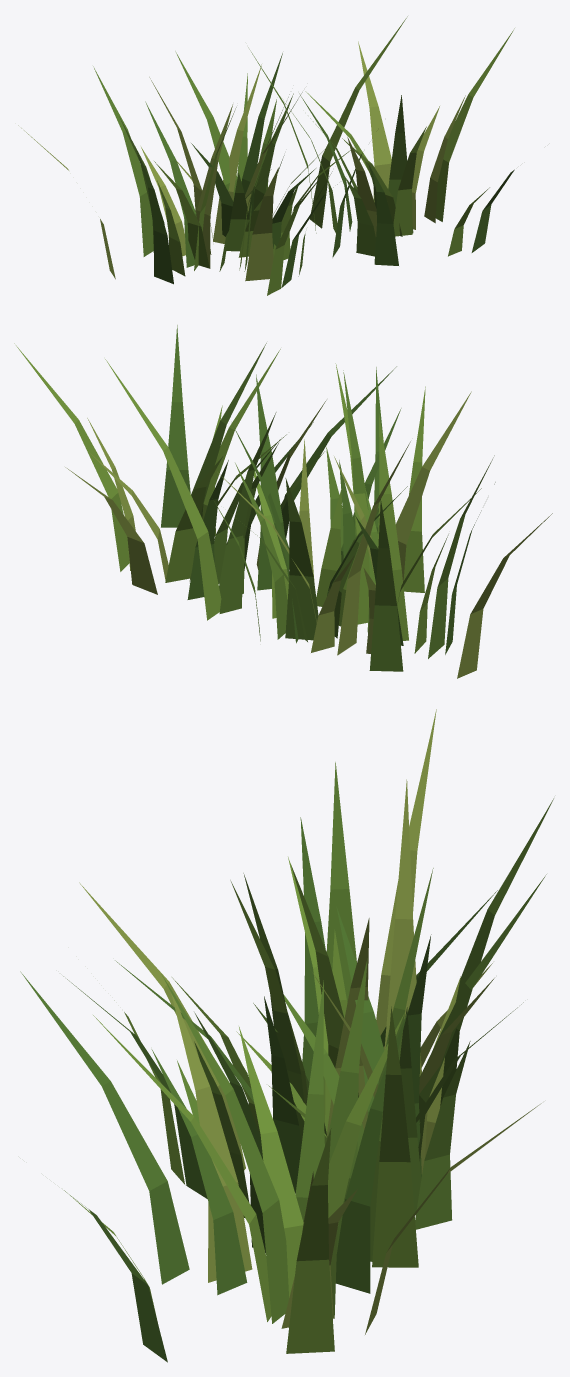
File: grass_short_idle.glb
3 views of the same model, one above another, from view 1: azimuth 30°, elevation 25°; view 2: azimuth 150°, elevation 25°; view 3: azimuth 270°, elevation 25° (orthographic). The views are drawn at different scales.
Parts seen in each view (by area): view 1: grass_short; view 2: grass_short; view 3: grass_short.
Part boxes in pixels (box(x1,y1,x2,y2)): grass_short: box(18, 16, 514, 295); grass_short: box(14, 325, 552, 678); grass_short: box(20, 709, 553, 1362).
Size of the model in its own units: 0.5184 by 0.1991 by 0.2818.
